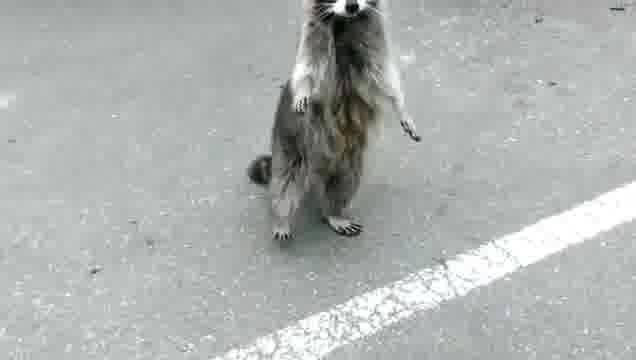raccoon: (246, 0, 422, 241)
